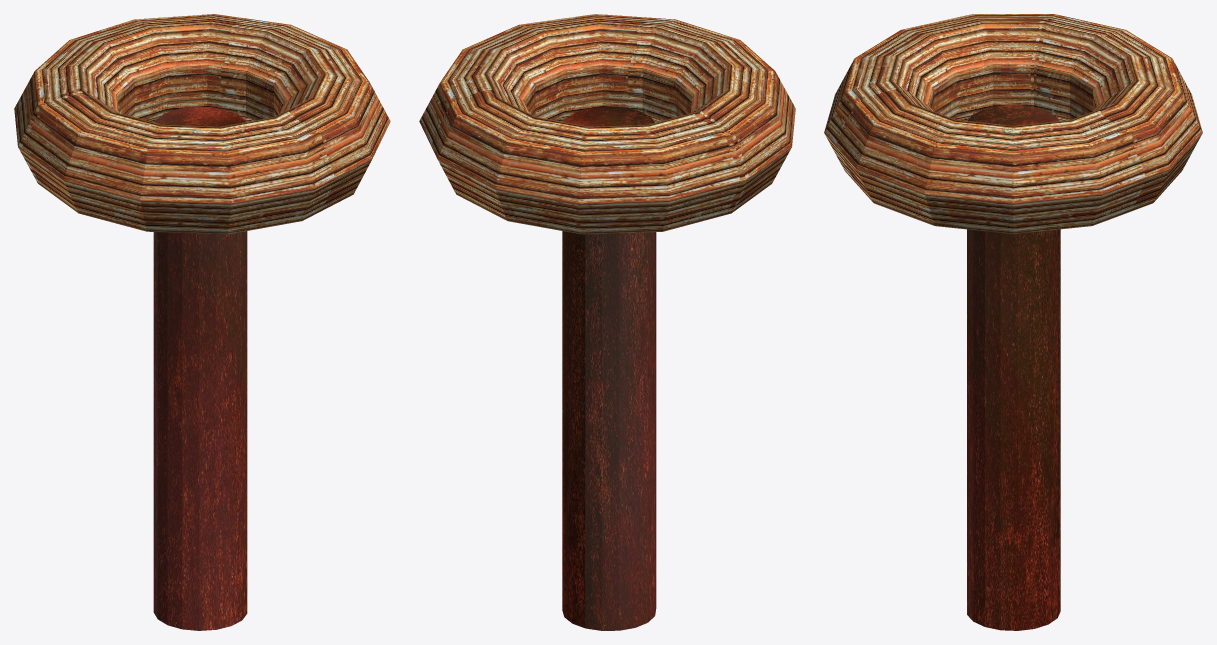
The model's file is tesla.fbx.
3 renders of one model, left to right at view 1: azimuth 30°, elevation 25°; view 2: azimuth 150°, elevation 25°; view 3: azimuth 270°, elevation 25°, orthographic.
Parts seen in each view (by area): view 1: Torus.002, Cylinder; view 2: Torus.002, Cylinder; view 3: Torus.002, Cylinder.
Part boxes in pixels (x1,y1,x2,y2): Torus.002: (14,14,390,234); Cylinder: (153,106,247,630); Torus.002: (419,14,795,234); Cylinder: (562,106,656,630); Torus.002: (824,14,1202,234); Cylinder: (967,105,1060,630).
Bounding box in the file's own units: 368 × 579 × 370.
Materials: 2 (2 with a texture image).
